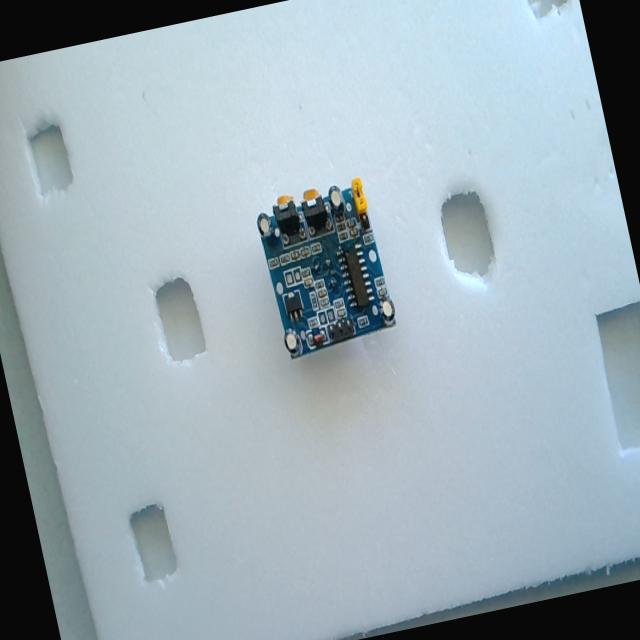Electrolytic capacitor: (326, 183, 346, 215), (378, 297, 397, 326)
IC: (334, 240, 376, 314)
